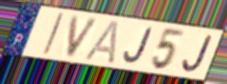5: (150, 26, 186, 71)
A: (83, 19, 122, 66)
I: (42, 11, 66, 57)
J: (180, 34, 215, 75), (122, 26, 155, 65)
V: (65, 14, 102, 60)
